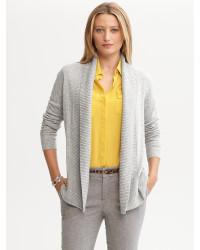C_cardigan sweater: (37, 61, 164, 209)
